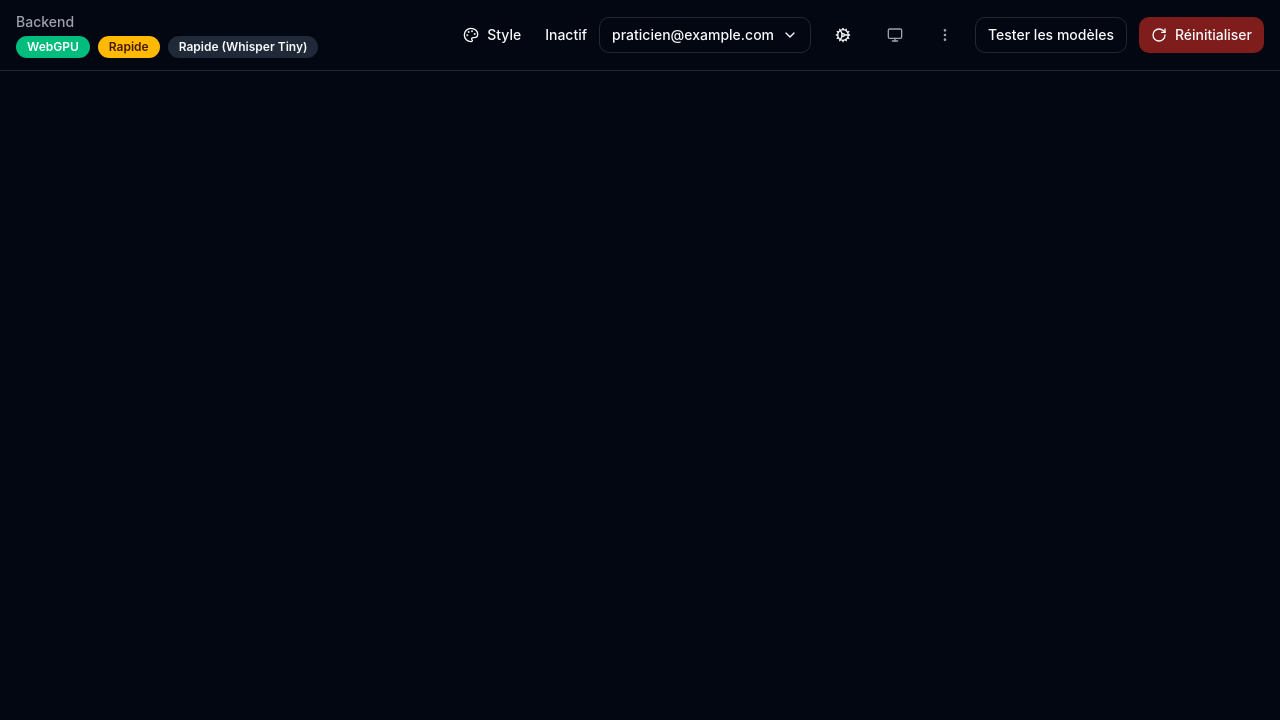
Test: Topbar › shows a validation error when the password confirmation does not match
The image size is (1280, 720).
Click the button "praticien@example.com".
click(705, 35)  # box [599,17,811,53]
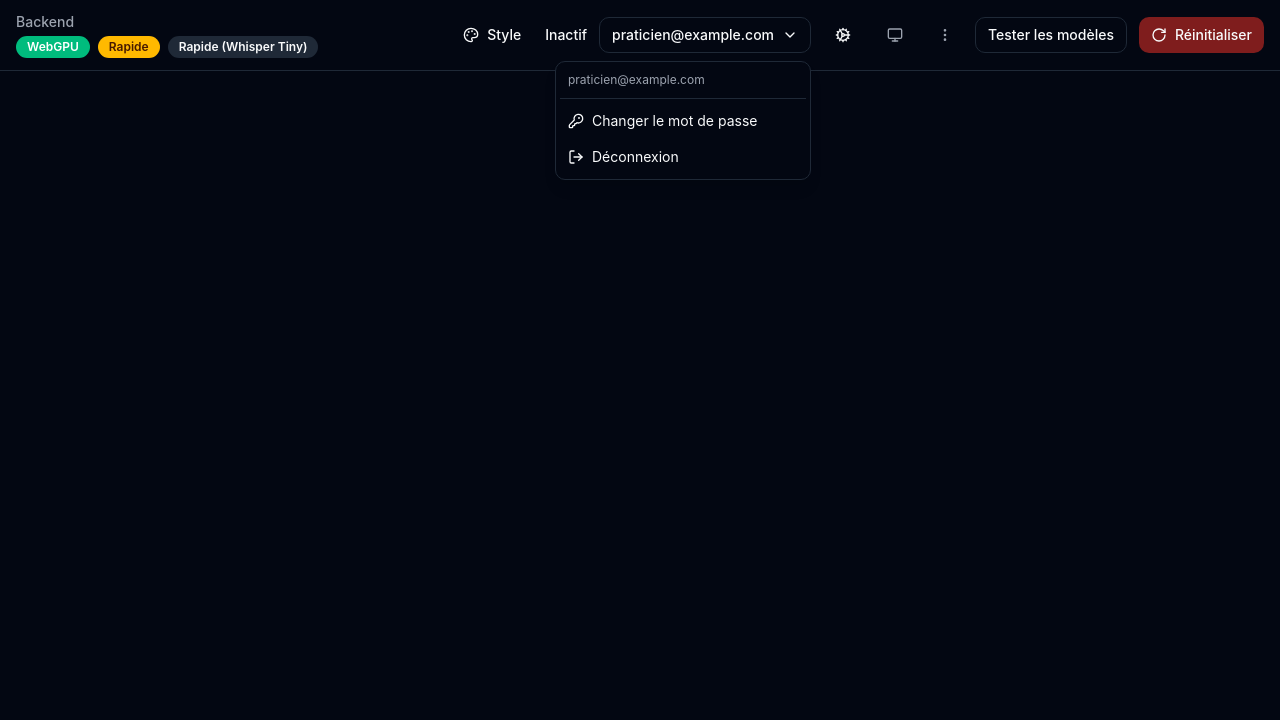
Click the menu item "Changer le mot de passe".
click(663, 120)  # box [568,112,758,129]
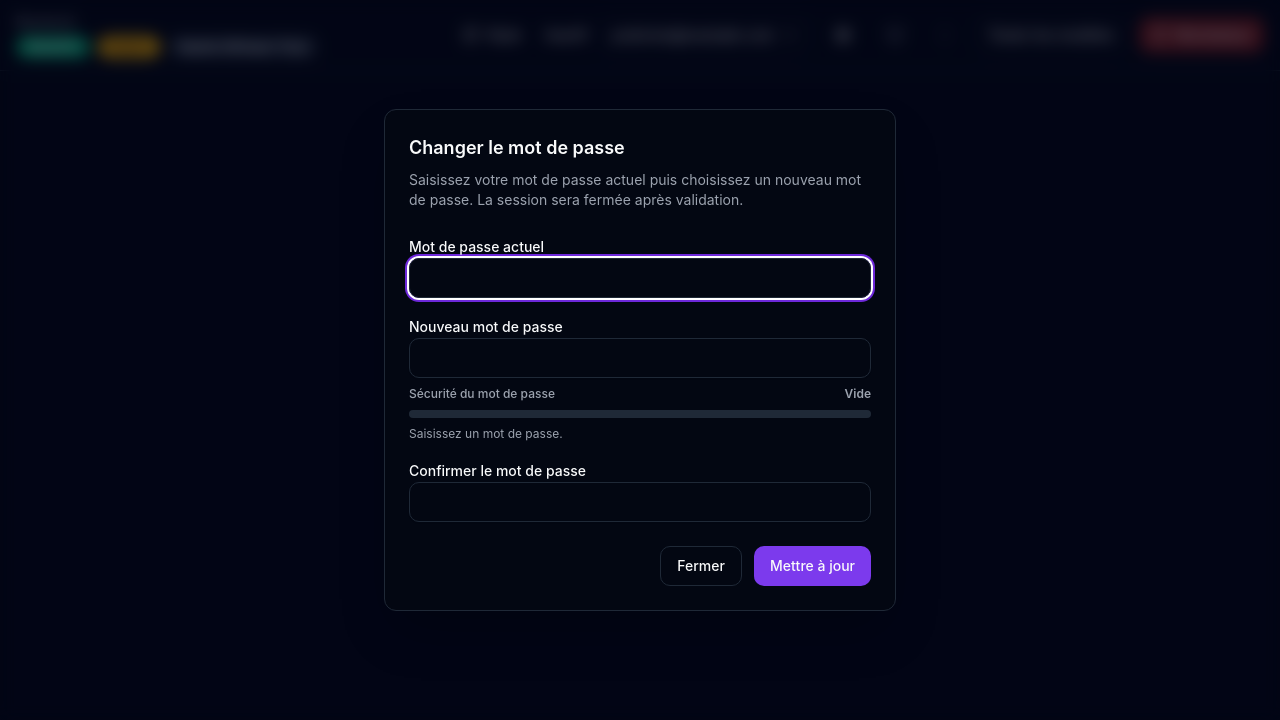
Type "ChangeMe123!" into the password field labelled "Mot de passe actuel".
click(640, 278); type("ChangeMe123!")  # box [409,258,871,298]
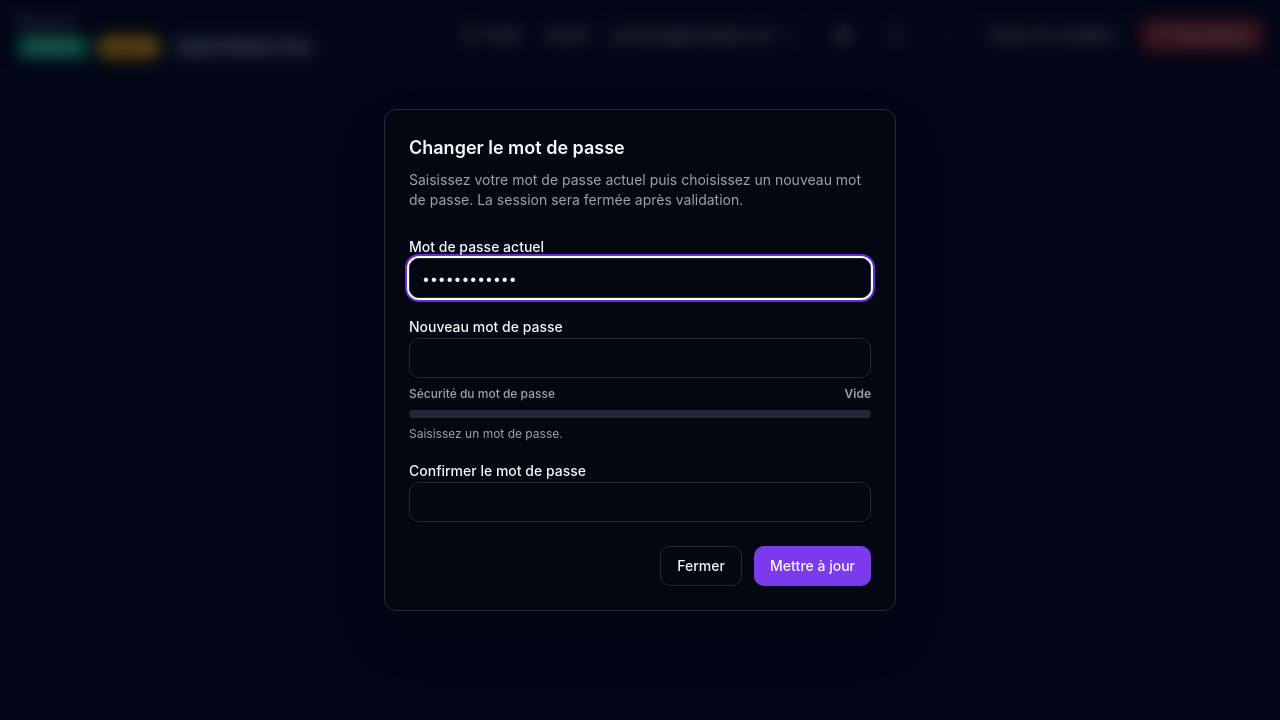
Type "NewPass123!" into the password field labelled "Nouveau mot de passe".
click(640, 358); type("NewPass123!")  # box [409,338,871,378]
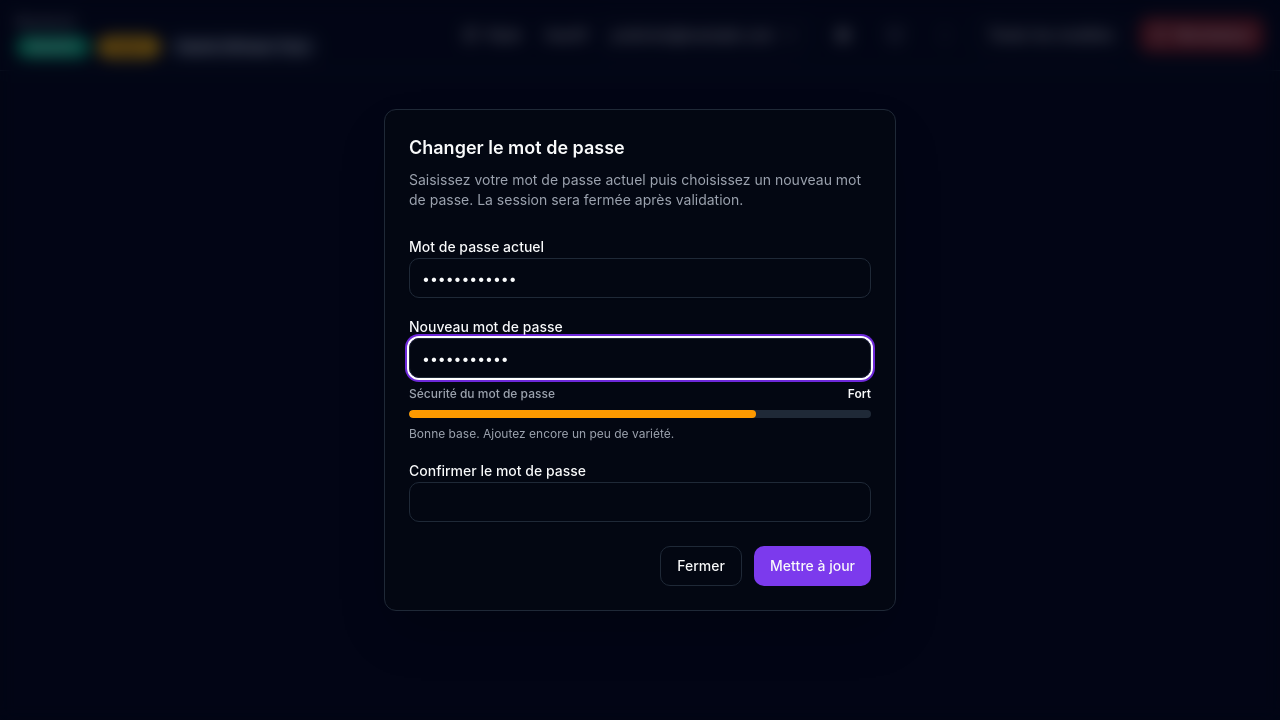
Now the progress indicator named "Sécurité du mot de passe" has attribute aria-valuenow="3", box [409,410,871,418]
Type "Mismatch123!" into the password field labelled "Confirmer le mot de passe".
click(640, 502); type("Mismatch123!")  # box [409,482,871,522]
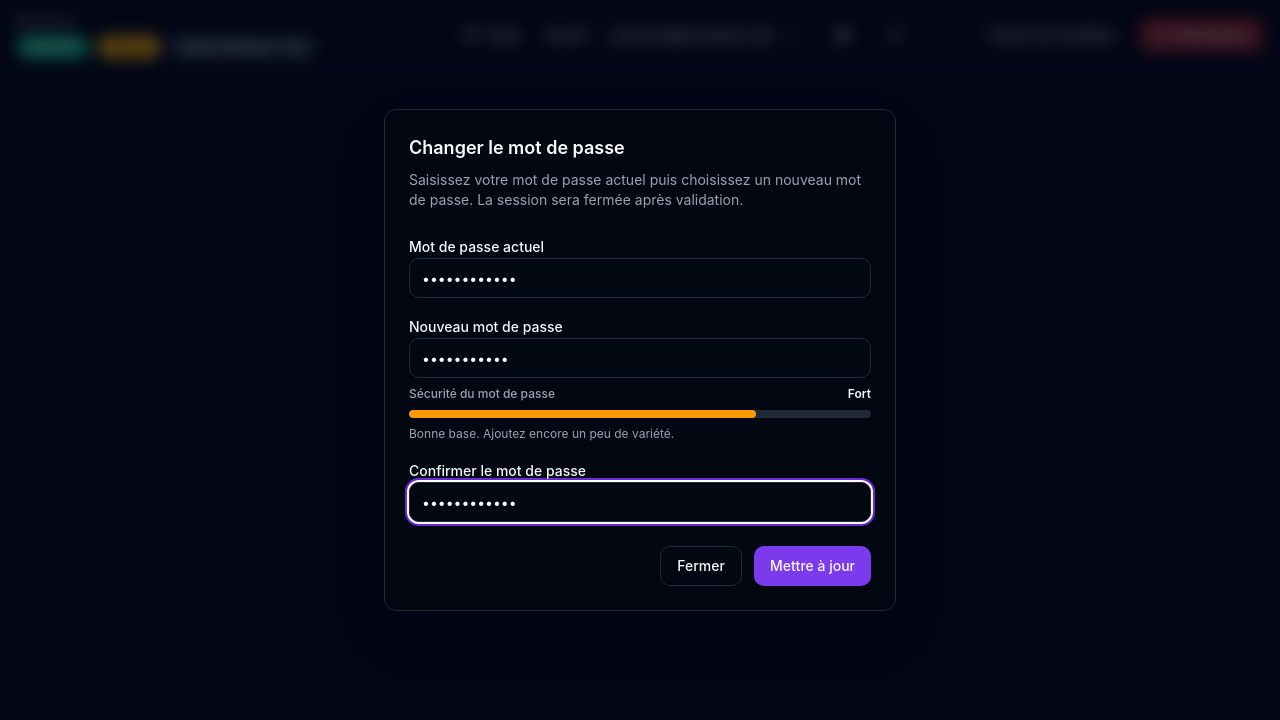
Click the button "Mettre à jour".
click(812, 566)  # box [754,546,871,586]
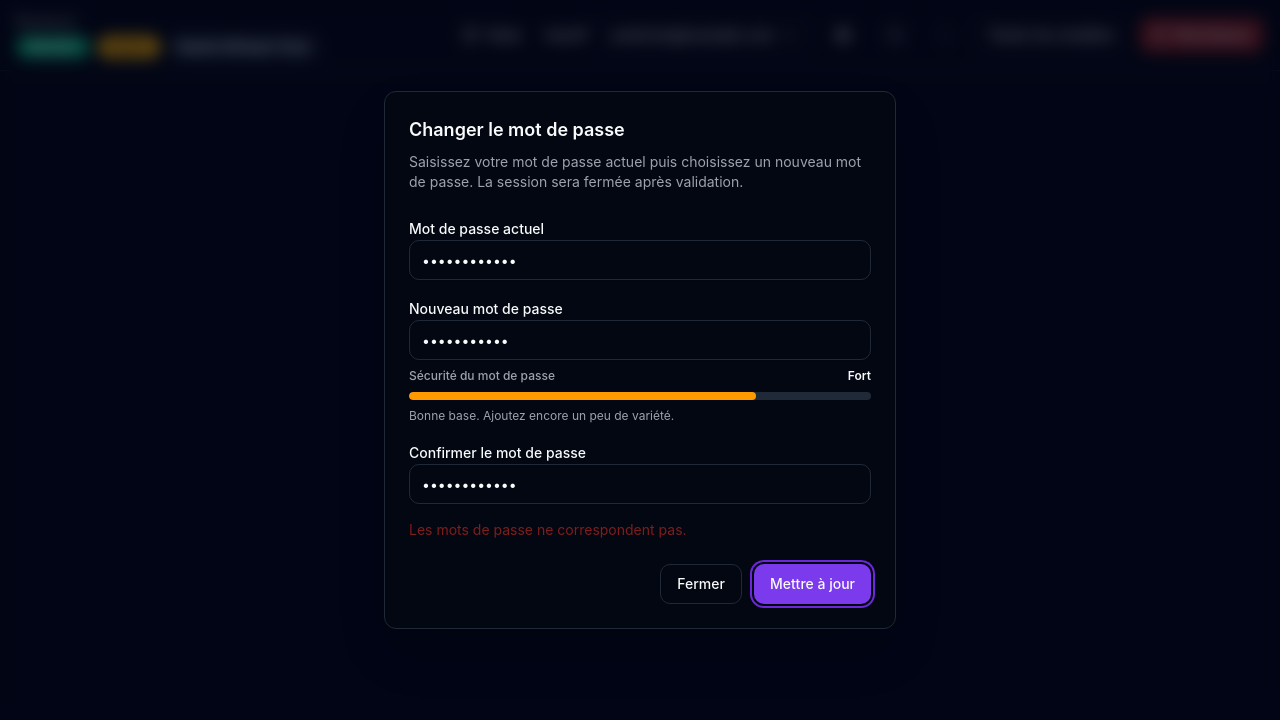
Now the text "Les mots de passe ne correspondent pas." is shown, box [409,521,687,538]
